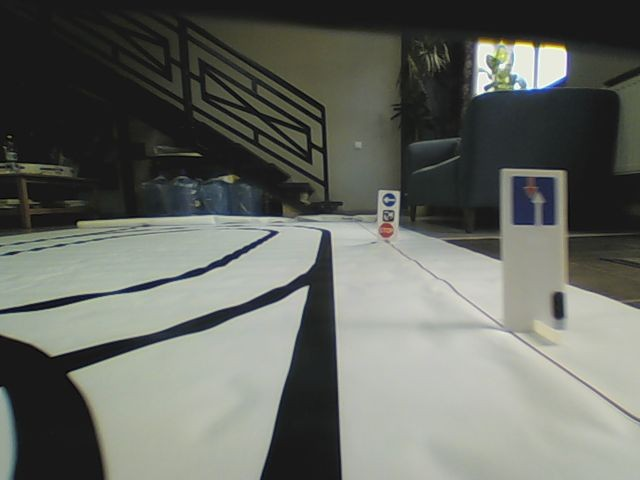priority_movement: (509, 172, 557, 228)
